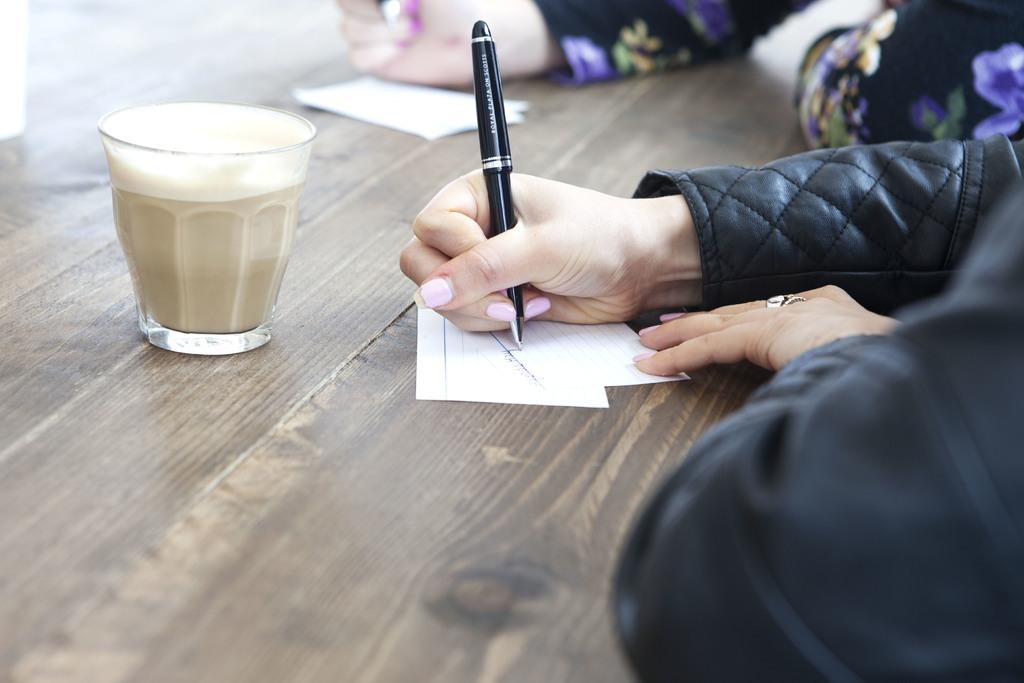pen: (474, 19, 520, 351)
